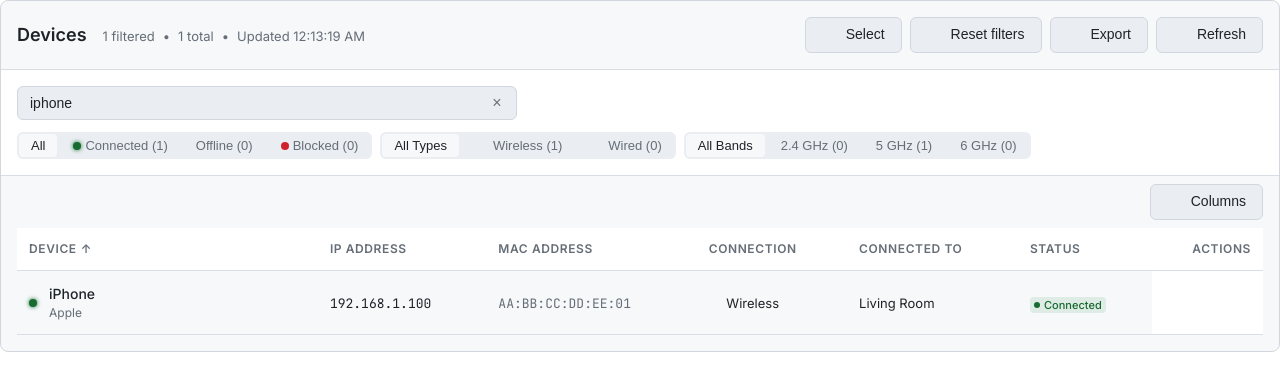
DeviceList - URL-encoded filters › shows a "Reset filters" button once a filter is active, which clears the search
Click the button "Reset filters".
click(976, 35)  # box [910, 17, 1042, 53]
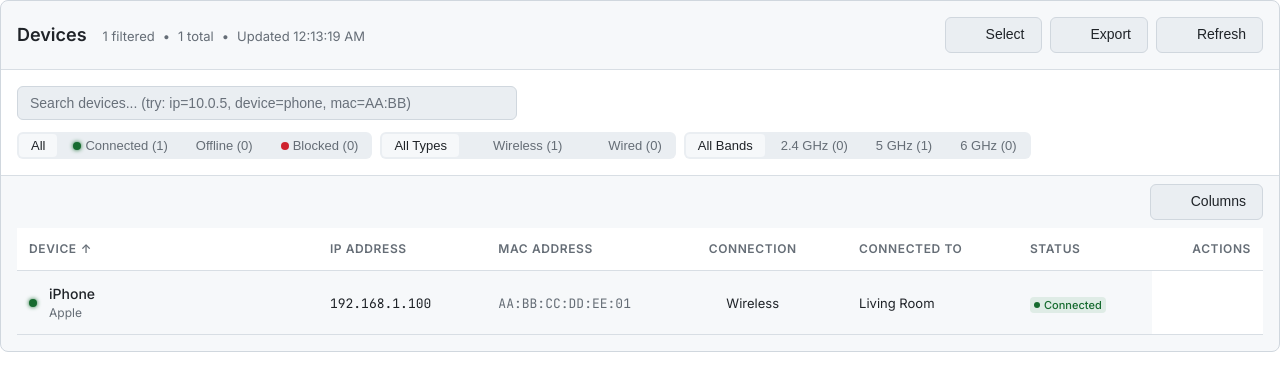
Expected: the field with placeholder "Search devices... (try: ip=10.0.5, device=phone, mac=AA:BB)" is empty, [17, 86, 517, 120]
